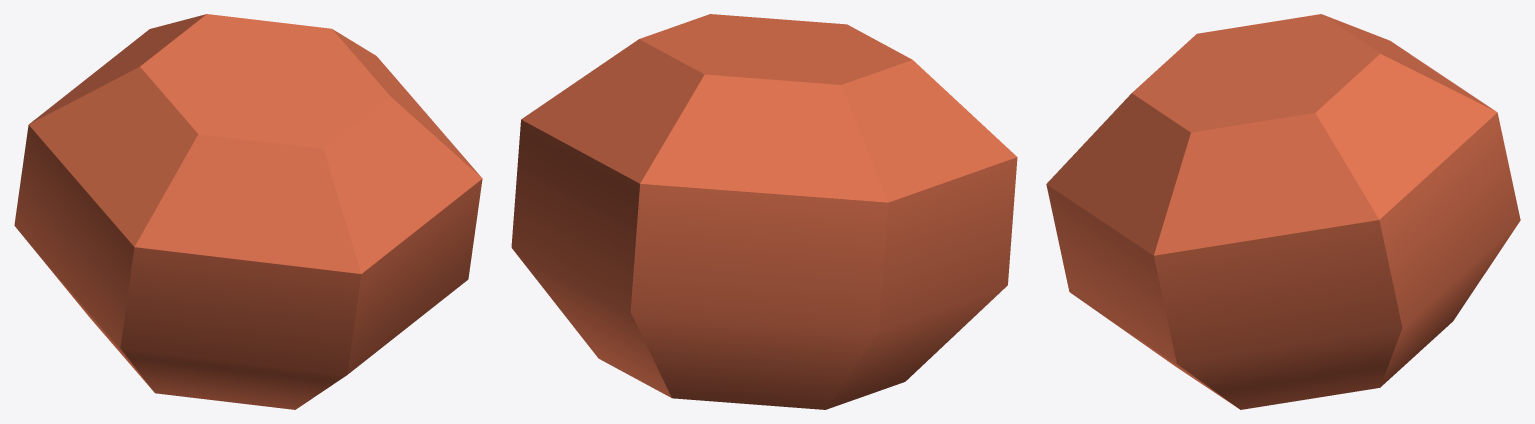
The model's file is orangelookingrock.fbx.
3 views of the same model, side by side, from view 1: azimuth 30°, elevation 25°; view 2: azimuth 150°, elevation 25°; view 3: azimuth 270°, elevation 25° (orthographic). The views are drawn at different scales.
Visible parts, largest first — view 1: polySurface734; view 2: polySurface734; view 3: polySurface734.
Boxes of the visible parts, <box> form: polySurface734: <box>14,14,482,409</box>; polySurface734: <box>511,14,1017,409</box>; polySurface734: <box>1046,14,1520,409</box>.
Size of the model in its own units: 1.6 by 1.39 by 1.86.
